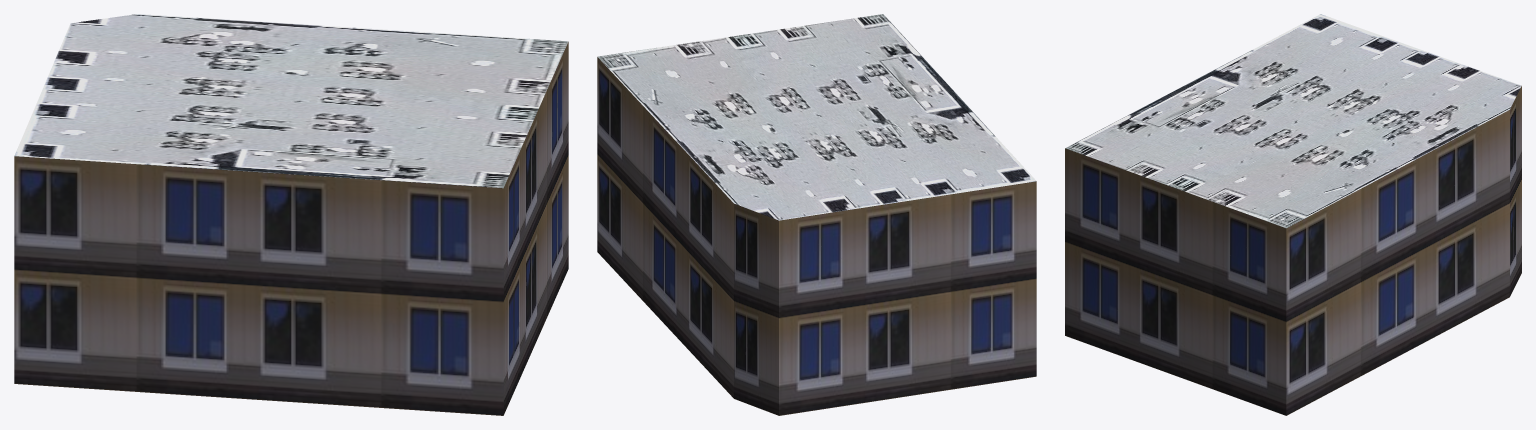
Rendered from ResTex__1170.fbx.
The picture shows the model from 3 angles, left to right: view 1: azimuth 30°, elevation 25°; view 2: azimuth 150°, elevation 25°; view 3: azimuth 270°, elevation 25°; orthographic projection. The views are drawn at different scales.
Visible parts, largest first — view 1: CityEngineMaterial_5_m, CityEngineMaterial_8_m; view 2: CityEngineMaterial_5_m, CityEngineMaterial_8_m; view 3: CityEngineMaterial_5_m, CityEngineMaterial_8_m.
Boxes of the visible parts, left/top/right/bottom form: CityEngineMaterial_5_m: left=14, top=42, right=568, bottom=415; CityEngineMaterial_8_m: left=14, top=14, right=568, bottom=188; CityEngineMaterial_5_m: left=597, top=57, right=1036, bottom=415; CityEngineMaterial_8_m: left=597, top=14, right=1036, bottom=220; CityEngineMaterial_5_m: left=1065, top=86, right=1521, bottom=415; CityEngineMaterial_8_m: left=1065, top=14, right=1521, bottom=228.
Bounding box in the file's own units: 14.71 × 6 × 13.24.
2 materials, 2 textured.
